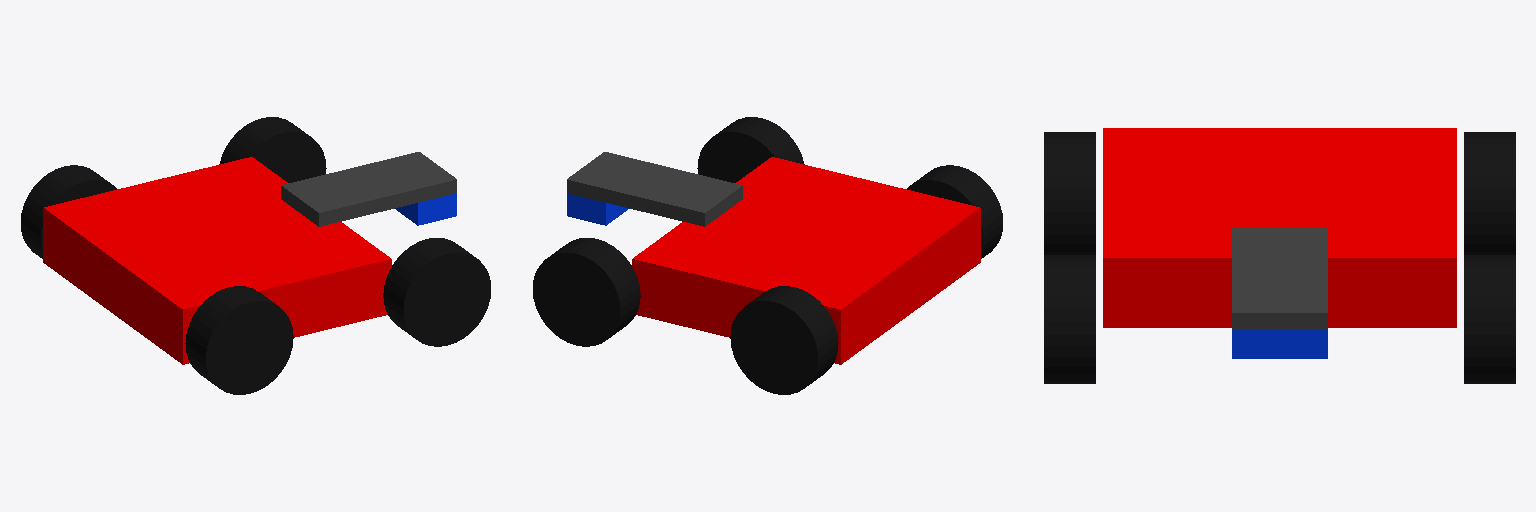
The robot description file, URDF, robot "line_follower_robot":
<robot name="line_follower_robot">

  <link name="base_link">
    <visual name="chassis">
      <origin xyz="-0.0175 0 0.022" rpy="0 0 0"/>
      <geometry><box size="0.095 0.110 0.024"/></geometry>
      <material name="brightred"><color rgba="1 0 0 1"/></material>
    </visual>
    <collision name="chassis_collision">
      <origin xyz="-0.0175 0 0.022" rpy="0 0 0"/>
      <geometry><box size="0.095 0.110 0.024"/></geometry>
    </collision>
    <visual name="camera_post">
      <origin xyz="0.025 0 0.037" rpy="0 0 0"/>
      <geometry><box size="0.010 0.030 0.006"/></geometry>
      <material name="bracket_grey"><color rgba="0.3 0.3 0.3 1"/></material>
    </visual>
    <collision name="camera_post_collision">
      <origin xyz="0.025 0 0.037" rpy="0 0 0"/>
      <geometry><box size="0.010 0.030 0.006"/></geometry>
    </collision>
    <visual name="camera_arm">
      <origin xyz="0.0515 0 0.037" rpy="0 0 0"/>
      <geometry><box size="0.063 0.030 0.006"/></geometry>
      <material name="bracket_grey2"><color rgba="0.3 0.3 0.3 1"/></material>
    </visual>
    <collision name="camera_arm_collision">
      <origin xyz="0.0515 0 0.037" rpy="0 0 0"/>
      <geometry><box size="0.063 0.030 0.006"/></geometry>
    </collision>
    <inertial>
      <origin xyz="0 0 0.022" rpy="0 0 0"/>
      <mass value="0.5"/>
      <inertia ixx="0.001" ixy="0" ixz="0" iyy="0.001" iyz="0" izz="0.001"/>
    </inertial>
  </link>

  <link name="left_front_wheel">
    <visual>
      <origin xyz="0 0 0" rpy="1.57079632679 0 0"/>
      <geometry><cylinder radius="0.02" length="0.016"/></geometry>
      <material name="wheel_material"><color rgba="0.12 0.12 0.12 1"/></material>
    </visual>
    <collision>
      <origin xyz="0 0 0" rpy="1.57079632679 0 0"/>
      <geometry><cylinder radius="0.02" length="0.016"/></geometry>
    </collision>
    <inertial>
      <mass value="0.05"/>
      <inertia ixx="0.0001" ixy="0" ixz="0" iyy="0.0001" iyz="0" izz="0.0001"/>
    </inertial>
  </link>

  <link name="right_front_wheel">
    <visual>
      <origin xyz="0 0 0" rpy="1.57079632679 0 0"/>
      <geometry><cylinder radius="0.02" length="0.016"/></geometry>
      <material name="wheel_material"><color rgba="0.12 0.12 0.12 1"/></material>
    </visual>
    <collision>
      <origin xyz="0 0 0" rpy="1.57079632679 0 0"/>
      <geometry><cylinder radius="0.02" length="0.016"/></geometry>
    </collision>
    <inertial>
      <mass value="0.05"/>
      <inertia ixx="0.0001" ixy="0" ixz="0" iyy="0.0001" iyz="0" izz="0.0001"/>
    </inertial>
  </link>

  <link name="left_rear_wheel">
    <visual>
      <origin xyz="0 0 0" rpy="1.57079632679 0 0"/>
      <geometry><cylinder radius="0.02" length="0.016"/></geometry>
      <material name="wheel_material"><color rgba="0.12 0.12 0.12 1"/></material>
    </visual>
    <collision>
      <origin xyz="0 0 0" rpy="1.57079632679 0 0"/>
      <geometry><cylinder radius="0.02" length="0.016"/></geometry>
    </collision>
    <inertial>
      <mass value="0.05"/>
      <inertia ixx="0.0001" ixy="0" ixz="0" iyy="0.0001" iyz="0" izz="0.0001"/>
    </inertial>
  </link>

  <link name="right_rear_wheel">
    <visual>
      <origin xyz="0 0 0" rpy="1.57079632679 0 0"/>
      <geometry><cylinder radius="0.02" length="0.016"/></geometry>
      <material name="wheel_material"><color rgba="0.12 0.12 0.12 1"/></material>
    </visual>
    <collision>
      <origin xyz="0 0 0" rpy="1.57079632679 0 0"/>
      <geometry><cylinder radius="0.02" length="0.016"/></geometry>
    </collision>
    <inertial>
      <mass value="0.05"/>
      <inertia ixx="0.0001" ixy="0" ixz="0" iyy="0.0001" iyz="0" izz="0.0001"/>
    </inertial>
  </link>

  <link name="camera_link">
    <visual name="camera_body">
      <origin xyz="0 0 0" rpy="0 0 0"/>
      <geometry><box size="0.018 0.030 0.010"/></geometry>
      <material name="camera_blue"><color rgba="0.05 0.3 1.0 1"/></material>
    </visual>
    <inertial>
      <mass value="0.01"/>
      <inertia ixx="0.000001" ixy="0" ixz="0" iyy="0.000001" iyz="0" izz="0.000001"/>
    </inertial>
  </link>

  <joint name="front_left_wheel_joint" type="continuous">
    <parent link="base_link"/><child link="left_front_wheel"/>
    <origin xyz="0.045 0.065 0.020" rpy="0 0 0"/><axis xyz="0 1 0"/>
  </joint>
  <joint name="front_right_wheel_joint" type="continuous">
    <parent link="base_link"/><child link="right_front_wheel"/>
    <origin xyz="0.045 -0.065 0.020" rpy="0 0 0"/><axis xyz="0 1 0"/>
  </joint>
  <joint name="rear_left_wheel_joint" type="continuous">
    <parent link="base_link"/><child link="left_rear_wheel"/>
    <origin xyz="-0.045 0.065 0.020" rpy="0 0 0"/><axis xyz="0 1 0"/>
  </joint>
  <joint name="rear_right_wheel_joint" type="continuous">
    <parent link="base_link"/><child link="right_rear_wheel"/>
    <origin xyz="-0.045 -0.065 0.020" rpy="0 0 0"/><axis xyz="0 1 0"/>
  </joint>

  <joint name="camera_joint" type="fixed">
    <parent link="base_link"/>
    <child link="camera_link"/>
    <origin xyz="0.074 0 0.029" rpy="0 0 0"/>
  </joint>

  <gazebo reference="camera_link">
    <sensor name="line_camera" type="camera">
      <pose>0 0 -0.005 0 1.5707963268 0</pose>
      <always_on>true</always_on>
      <update_rate>30</update_rate>
      <visualize>true</visualize>
      <topic>/camera/image</topic>
      <camera name="line_camera">
        <horizontal_fov>2.8484</horizontal_fov>
        <image>
          <width>320</width>
          <height>240</height>
          <format>R8G8B8</format>
        </image>
        <clip><near>0.005</near><far>0.5</far></clip>
      </camera>
    </sensor>
  </gazebo>

  <gazebo>
    <plugin filename="gz-sim-diff-drive-system" name="gz::sim::systems::DiffDrive">
      <left_joint>front_left_wheel_joint</left_joint>
      <right_joint>front_right_wheel_joint</right_joint>
      <wheel_separation>0.130</wheel_separation>
      <wheel_radius>0.020</wheel_radius>
      <odometry_publish_frequency>50</odometry_publish_frequency>
      <robot_base_frame>base_link</robot_base_frame>
      <topic>/cmd_vel</topic>
      <publish_odom_tf>false</publish_odom_tf>
      <publish_wheel_tf>false</publish_wheel_tf>
      <odometry_frame>odom</odometry_frame>
    </plugin>

    <plugin filename="gz-sim-joint-state-publisher-system"
            name="gz::sim::systems::JointStatePublisher">
      <joint_name>front_left_wheel_joint</joint_name>
      <joint_name>front_right_wheel_joint</joint_name>
      <joint_name>rear_left_wheel_joint</joint_name>
      <joint_name>rear_right_wheel_joint</joint_name>
    </plugin>
  </gazebo>

  <gazebo reference="left_rear_wheel"><mu1>0.0</mu1><mu2>0.0</mu2></gazebo>
  <gazebo reference="right_rear_wheel"><mu1>0.0</mu1><mu2>0.0</mu2></gazebo>

</robot>

--- Facts derived from the render (not from the file) ---
Views: 3 orthographic renders of the robot side by side, from view 1: azimuth 30°, elevation 25°; view 2: azimuth 150°, elevation 25°; view 3: azimuth 270°, elevation 25°.
Model line_follower_robot with 6 links and 5 joints (4 continuous, 1 fixed), rooted at base_link, posed all joints at 0.
Visible links, largest first — view 1: base_link, right_rear_wheel, right_front_wheel, left_front_wheel, left_rear_wheel, camera_link; view 2: base_link, left_rear_wheel, left_front_wheel, right_front_wheel, right_rear_wheel, camera_link; view 3: base_link, left_front_wheel, right_front_wheel, left_rear_wheel, right_rear_wheel, camera_link.
Link boxes in pixels (box(x1,y1,x2,y2)): base_link: box(43, 152, 456, 364); right_rear_wheel: box(185, 286, 293, 394); right_front_wheel: box(383, 238, 490, 346); left_front_wheel: box(219, 117, 326, 182); left_rear_wheel: box(21, 165, 116, 258); camera_link: box(395, 193, 456, 225); base_link: box(567, 152, 980, 364); left_rear_wheel: box(730, 286, 838, 394); left_front_wheel: box(533, 238, 640, 346); right_front_wheel: box(697, 117, 804, 182); right_rear_wheel: box(907, 165, 1002, 258); camera_link: box(567, 193, 628, 225); base_link: box(1103, 128, 1456, 329); left_front_wheel: box(1464, 255, 1515, 383); right_front_wheel: box(1044, 255, 1095, 383); left_rear_wheel: box(1464, 132, 1515, 254); right_rear_wheel: box(1044, 132, 1095, 254); camera_link: box(1232, 330, 1327, 358).
Size in the robot's own frame: 0.148 by 0.146 by 0.04 metres.
Geometry: primitives only (box / cylinder / sphere), no mesh files.
